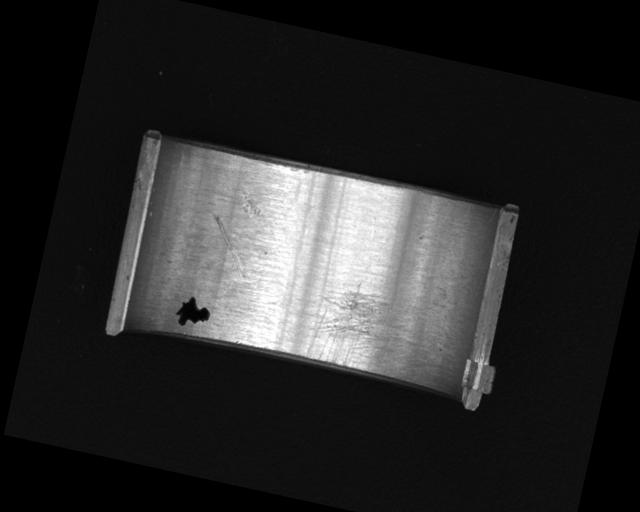blot: (172, 292, 214, 331)
bruise: (235, 189, 264, 219)
nick: (202, 214, 256, 278)
scratch: (303, 273, 445, 386)
